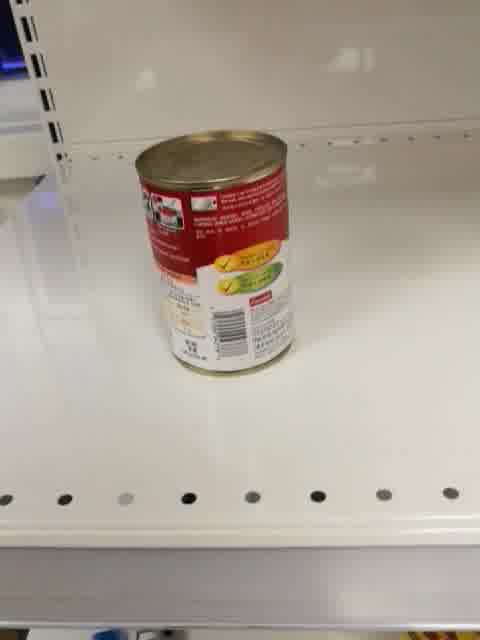tomatosoup: (133, 129, 296, 379)
